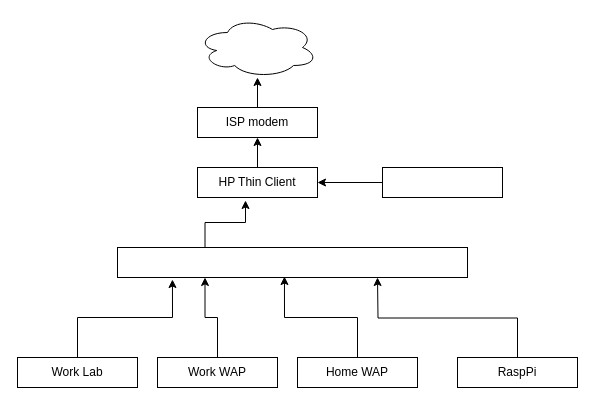
Image size: 595x405. Some labels were removed from this diagram. The shapes that lost their labels are listed below. From the top down, each one's box as (x1, y1, x2, y2) in pixels, then its label:
(196, 16, 318, 78): ISP
(382, 166, 502, 198): Home PC
(116, 246, 468, 278): Cisco Switch
